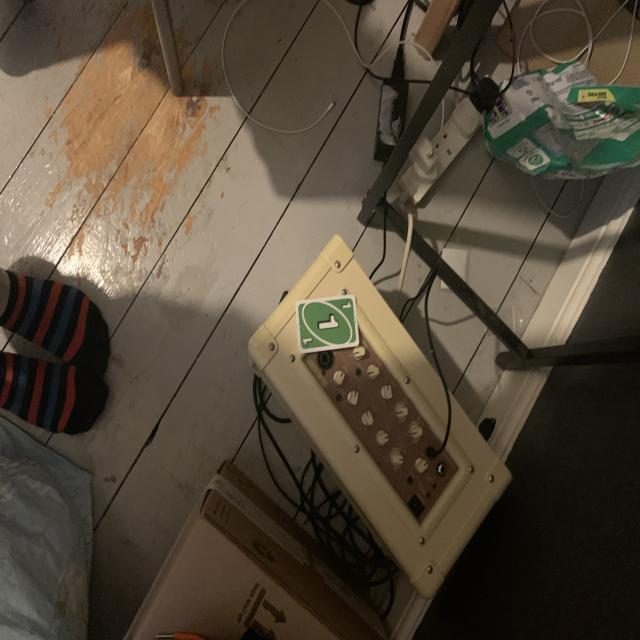lgreen-1: (340, 299, 354, 314)
